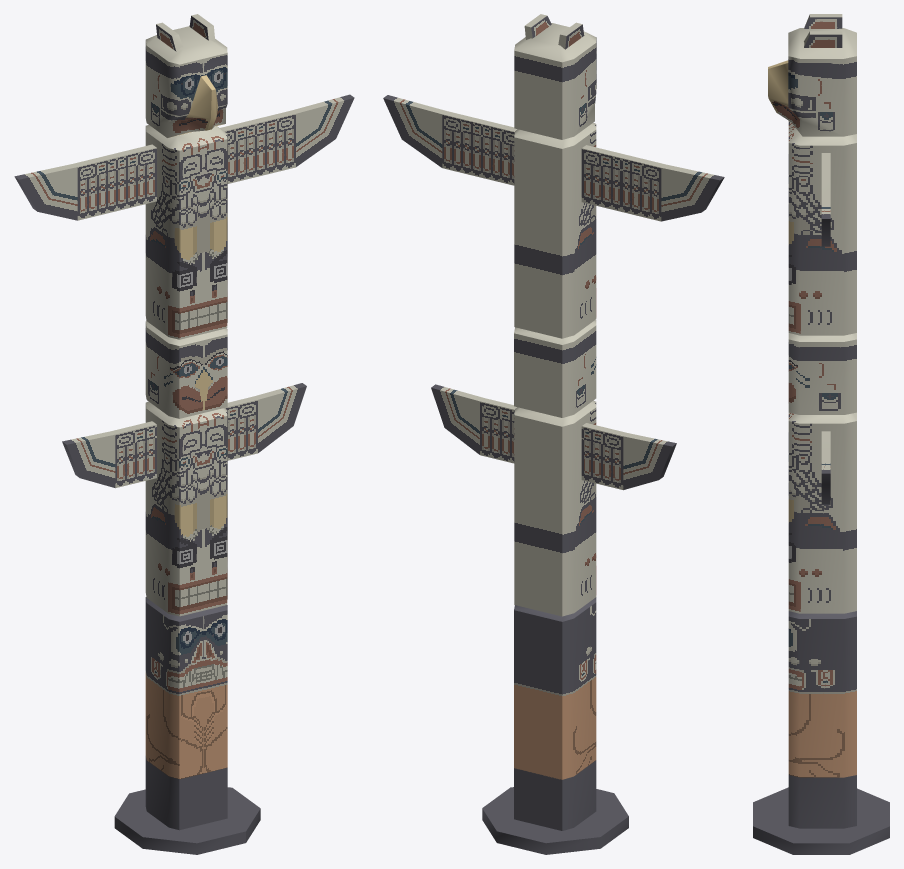
The model's file is 04f7_Tall_Totem_Pole.glb.
3 views of the same model, side by side, from view 1: azimuth 30°, elevation 25°; view 2: azimuth 150°, elevation 25°; view 3: azimuth 270°, elevation 25° (orthographic).
Visible parts, largest first — view 1: part_0; view 2: part_0; view 3: part_0.
Part boxes in pixels (x1,y1,x2,y2): part_0: [14, 14, 354, 854]; part_0: [383, 14, 724, 854]; part_0: [753, 14, 889, 854].
Bounding box in the file's own units: 6.48 × 14.7 × 2.28.
1 material, 1 textured.
